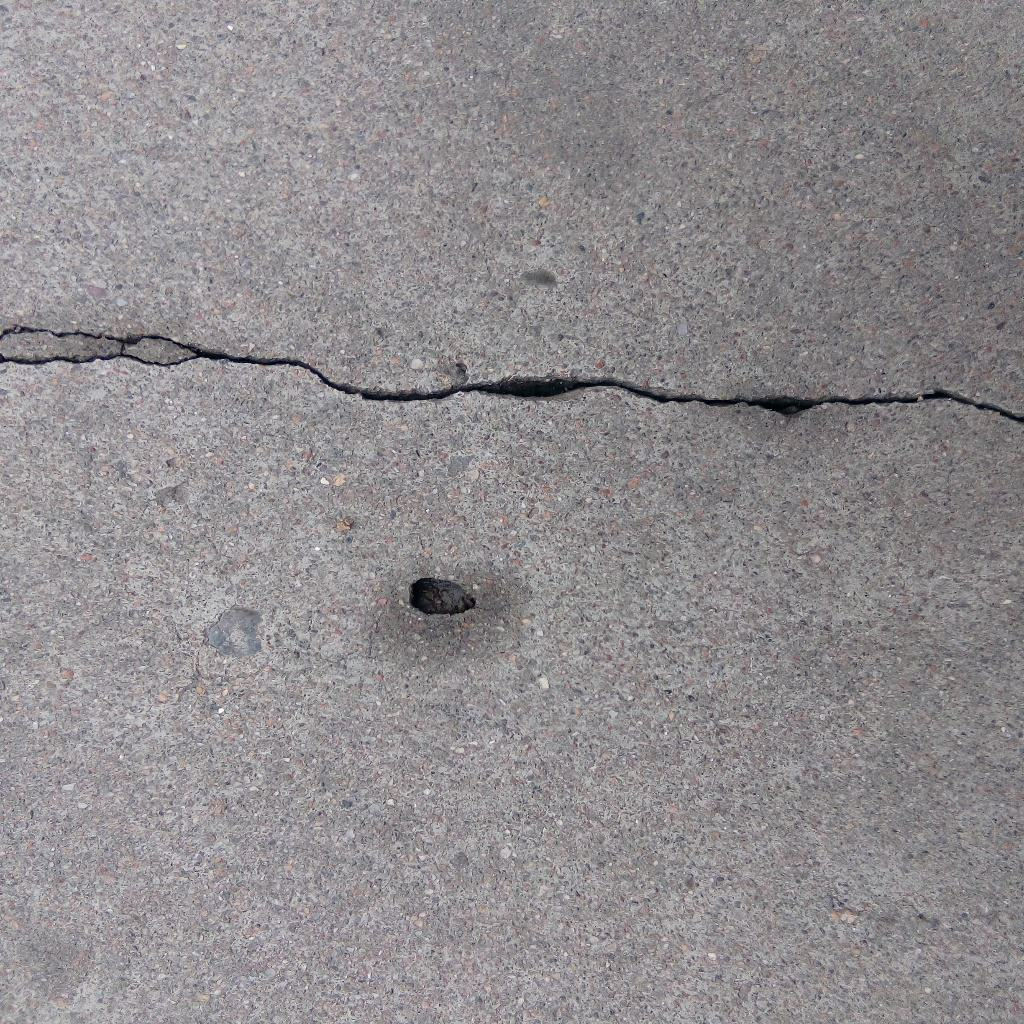Crack: (1, 322, 1024, 428)
Spalling: (407, 576, 477, 616)
